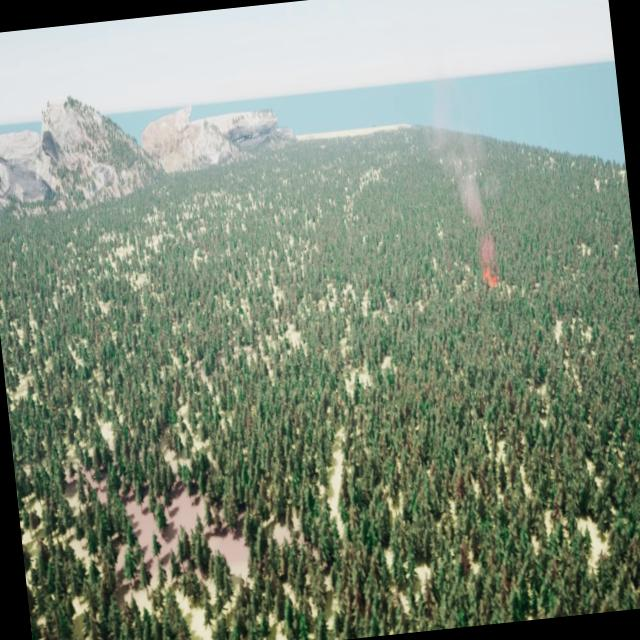fire: (480, 263, 500, 291)
smoke: (418, 77, 503, 270)
